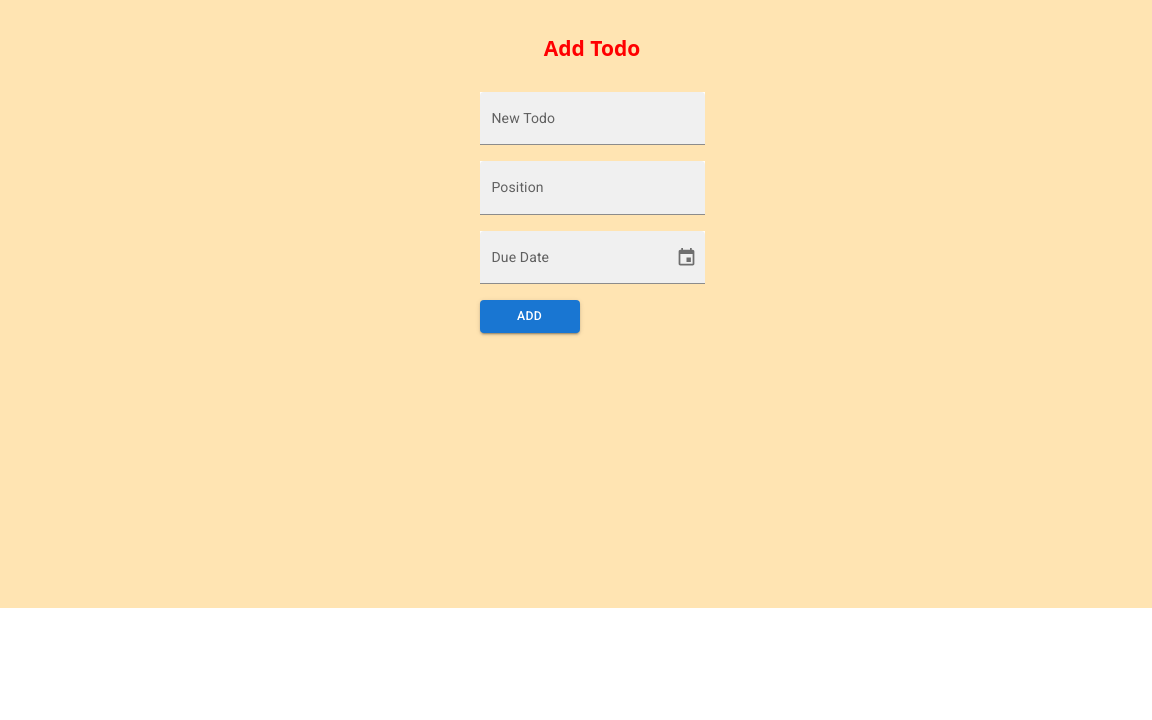
Test case: AddTodo Component › shows validation errors for empty fields
This screenshot has width=1152, height=720.
Step 1. Click the button "Add" → (530, 316), box [480,300,580,333]
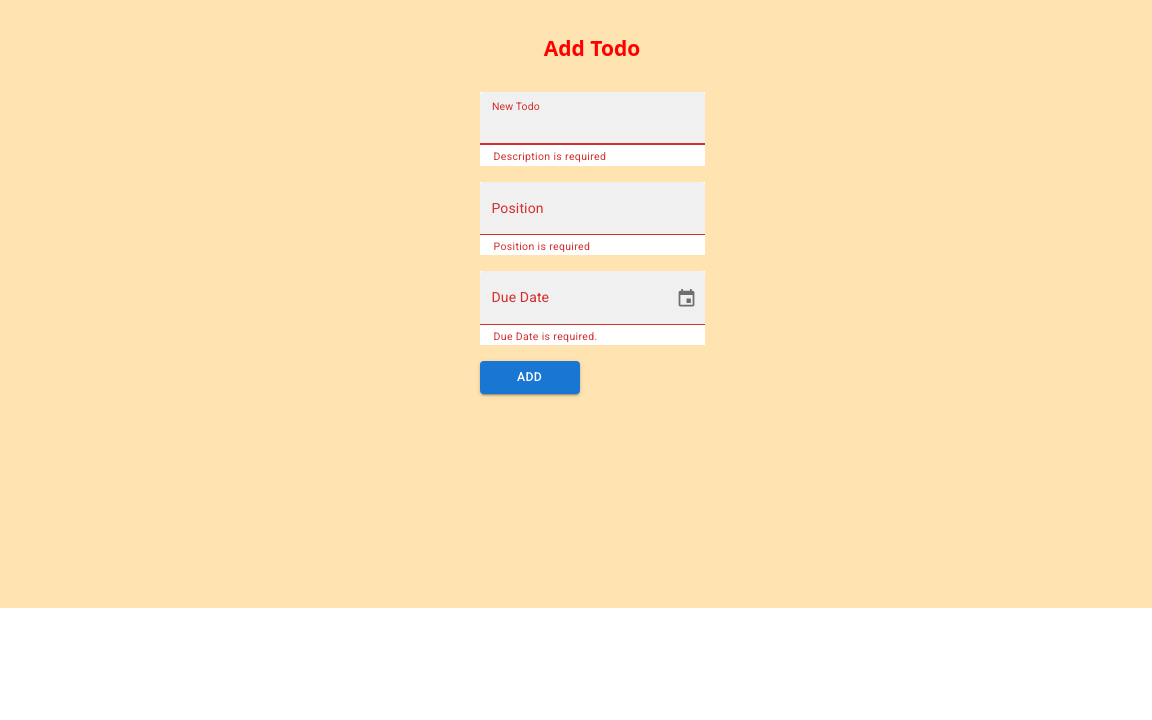
Now the text "Description is required" is shown, box [494,150,606,164]
Now the text "Position is required" is shown, box [494,240,590,253]
Now the text "Due Date is required." is shown, box [494,330,598,343]
